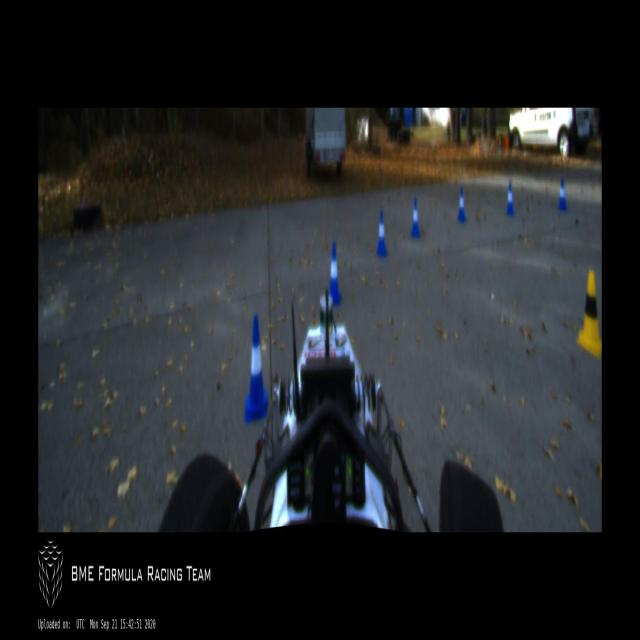blue_cone: (243, 316, 268, 422), (327, 240, 341, 304), (377, 211, 387, 256), (411, 198, 420, 238), (558, 177, 568, 211), (458, 186, 466, 221), (506, 182, 514, 214)
yellow_cone: (576, 270, 601, 354)
